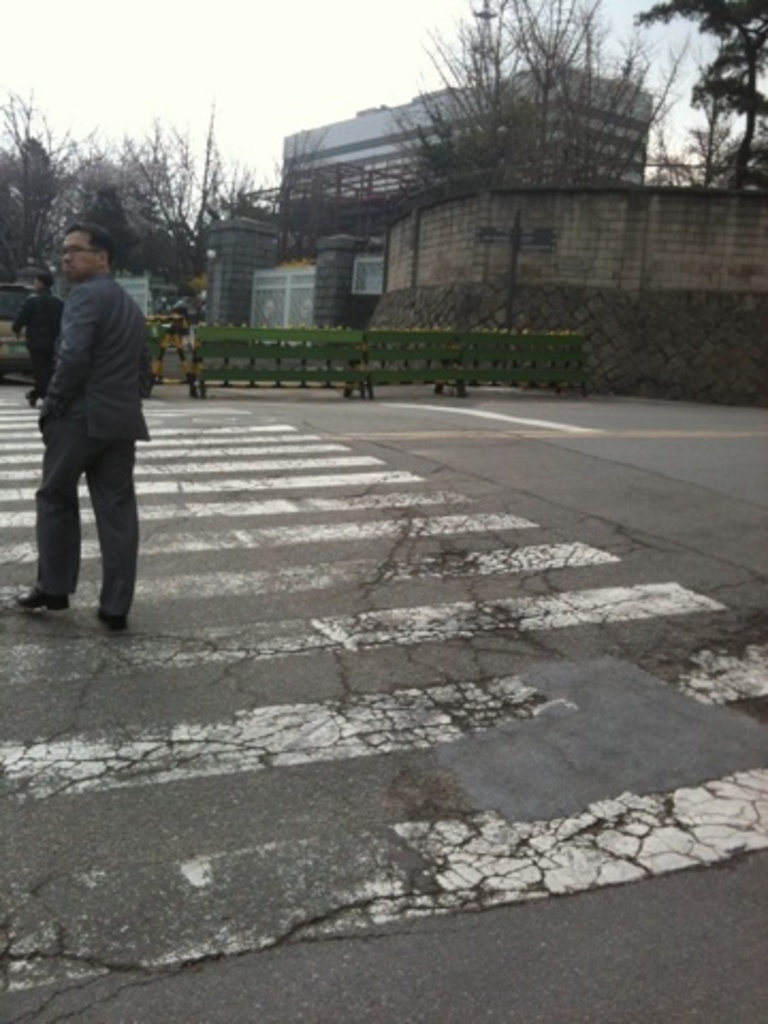Person: (16, 223, 151, 631), (10, 273, 65, 408)
